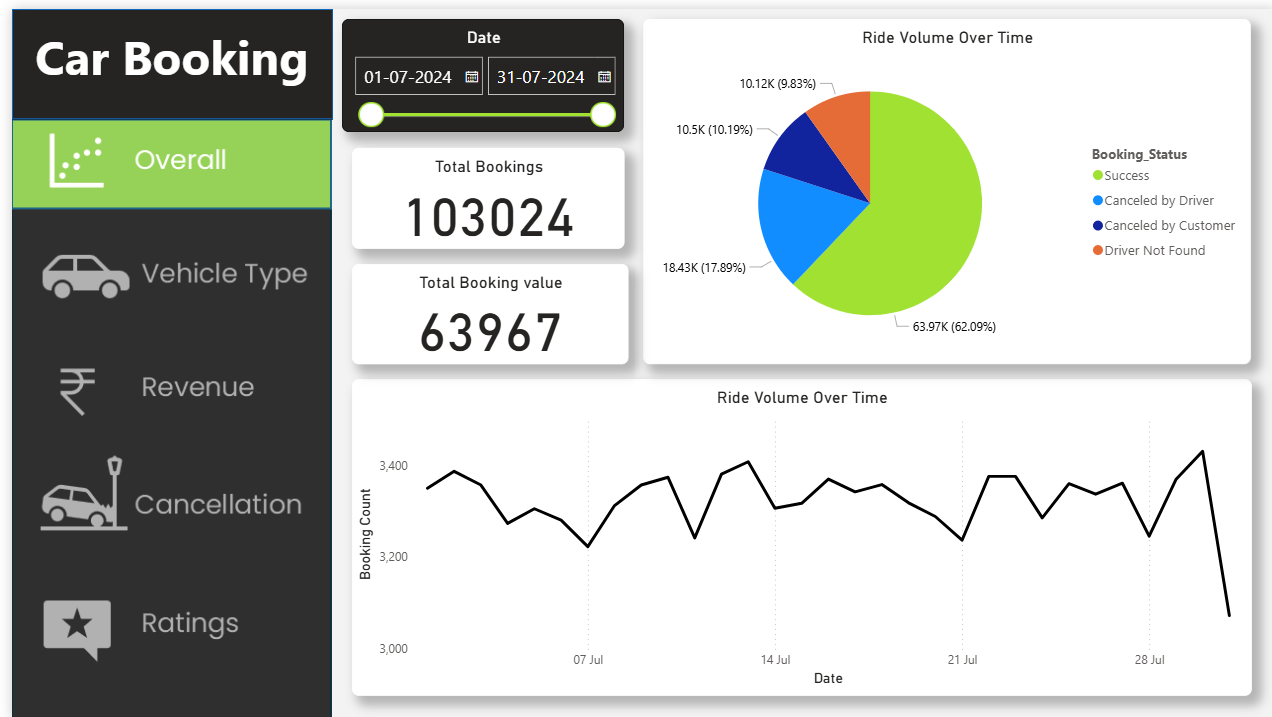

The dashboard page shown, as its layout file describes it:
{"tool":"powerbi","page":{"name":"Overall","canvas":[1280,720],"ordinal":0},"visuals":[{"type":"actionButton","box":[0,226.8,324.5,88.1],"z":0},{"type":"actionButton","box":[0,338.8,325,91.2],"z":1000},{"type":"actionButton","box":[0,448.8,325,91.2],"z":2000},{"type":"actionButton","box":[0,581.2,325,90],"z":3000},{"type":"actionButton","box":[0,112.5,325,88.8],"z":4000},{"type":"lineChart","title":"Ride Volume Over Time ","fields":{"Category":["Booking.Date"],"Y":["CountNonNull(Booking.Booking_ID)"]},"box":[343.8,375.2,910.9,320.9],"z":5000},{"type":"pieChart","title":"Ride Volume Over Time ","fields":{"Category":["Booking.Booking_Status"],"Y":["CountNonNull(Booking.Booking_Status)"]},"box":[639.4,9.7,615.3,349.9],"z":6000},{"type":"slicer","title":"Date","fields":{"Values":["Booking.Date"]},"box":[334.2,9.7,285.9,114.6],"z":7000},{"type":"card","title":"Total Bookings","fields":{"Values":["CountNonNull(Booking.Booking_ID)"]},"box":[343.8,139.9,276.3,102.5],"z":8000},{"type":"card","title":"Total Booking value","fields":{"Values":["CountNonNull(Booking.Booking_Value)"]},"box":[343.8,258.2,279.9,101.3],"z":9000},{"type":"shape","box":[0,0,325,111.7],"z":10000},{"type":"textbox","box":[0,10,323.8,82.5],"z":11000}]}

Visuals, with their boxes in screenshot pixels (x1, y1, x2, y2), scaled from the page's 1280x720 canvas onto the 1272x717 screenshot:
actionButton: rect(0, 226, 322, 314)
actionButton: rect(0, 337, 323, 428)
actionButton: rect(0, 447, 323, 538)
actionButton: rect(0, 579, 323, 668)
actionButton: rect(0, 112, 323, 200)
"Ride Volume Over Time " lineChart: rect(342, 374, 1247, 693)
"Ride Volume Over Time " pieChart: rect(635, 10, 1247, 358)
"Date" slicer: rect(332, 10, 616, 124)
"Total Bookings" card: rect(342, 139, 616, 241)
"Total Booking value" card: rect(342, 257, 620, 358)
shape: rect(0, 0, 323, 111)
textbox: rect(0, 10, 322, 92)
